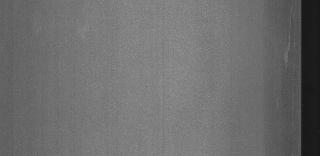silk spot: (269, 18, 297, 74)
